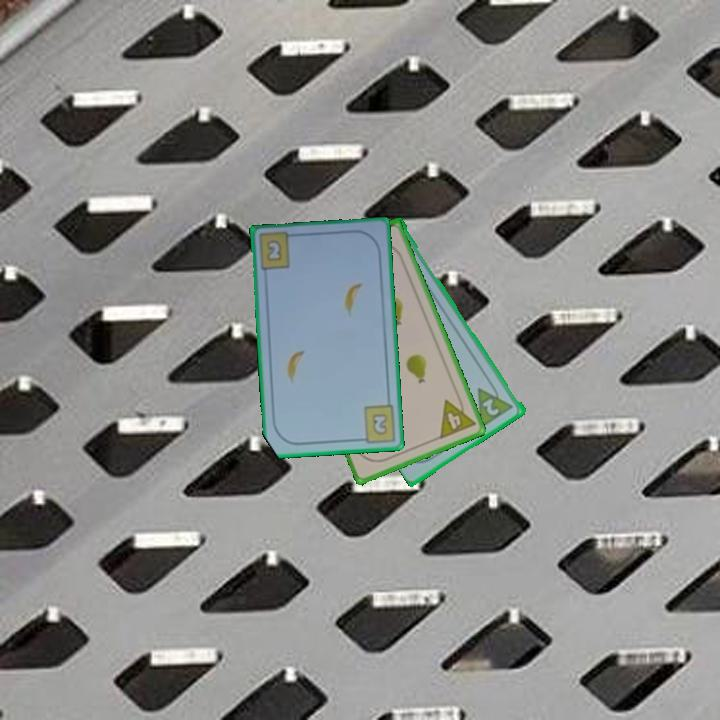2b: (354, 401, 398, 445), (263, 236, 285, 264)
2p: (479, 394, 503, 419)
4p: (436, 391, 479, 442)
